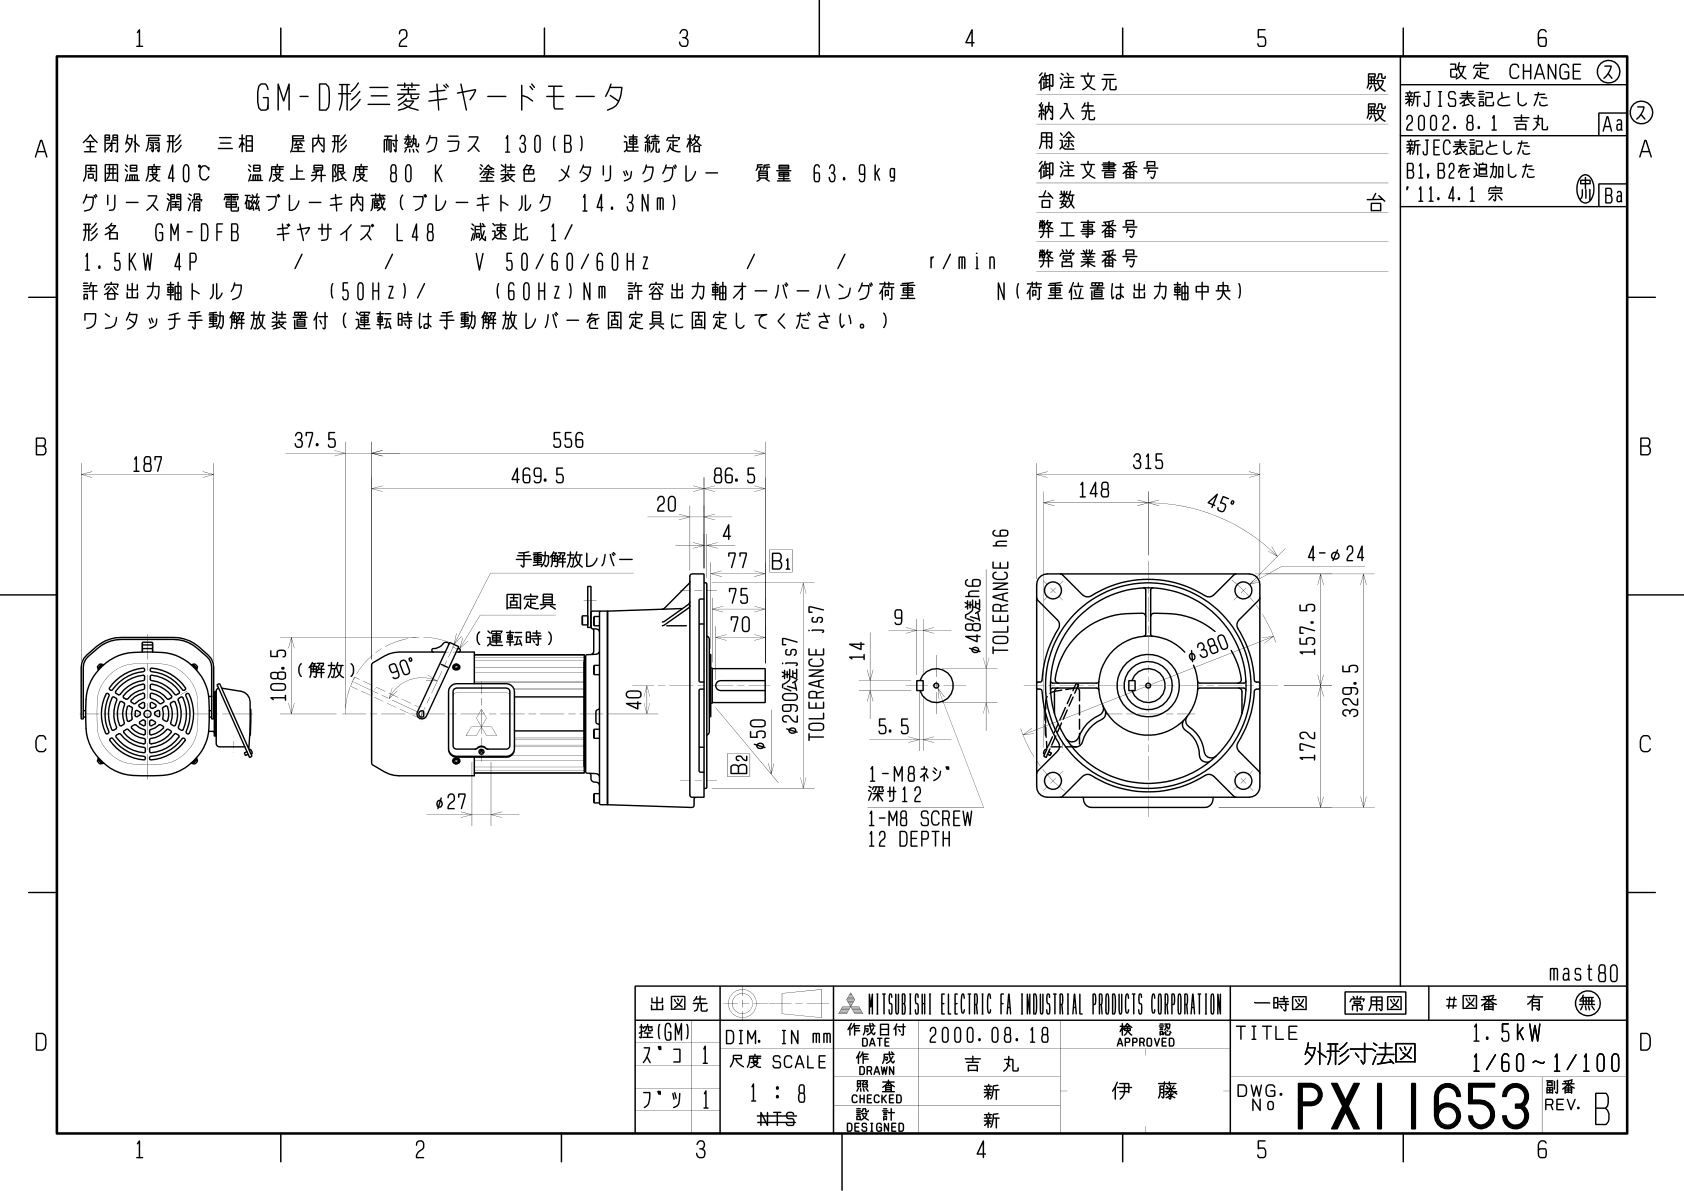GM_D_手動解放ブレーキ＿三相_フランジ: (63, 410, 1377, 878)
